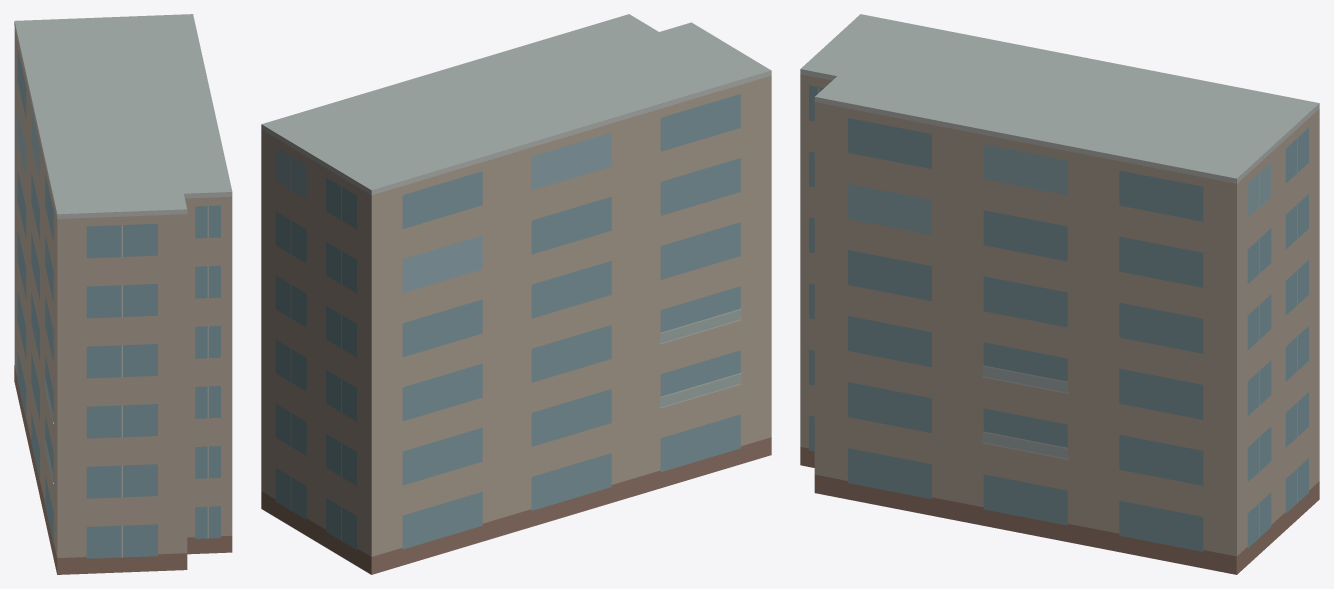
The model's file is survey-upis-33014839.glb.
3 views of the same model, side by side, from view 1: azimuth 30°, elevation 25°; view 2: azimuth 150°, elevation 25°; view 3: azimuth 270°, elevation 25° (orthographic). The views are drawn at different scales.
Parts seen in each view (by area): view 1: survey-upis-33014839.tmp; view 2: survey-upis-33014839.tmp; view 3: survey-upis-33014839.tmp.
Part boxes in pixels (left/top/right/bottom): survey-upis-33014839.tmp: left=14, top=14, right=232, bottom=574; survey-upis-33014839.tmp: left=261, top=14, right=771, bottom=574; survey-upis-33014839.tmp: left=800, top=14, right=1319, bottom=574.
Bounding box in the file's own units: 16.32 × 18.3 × 21.75.
